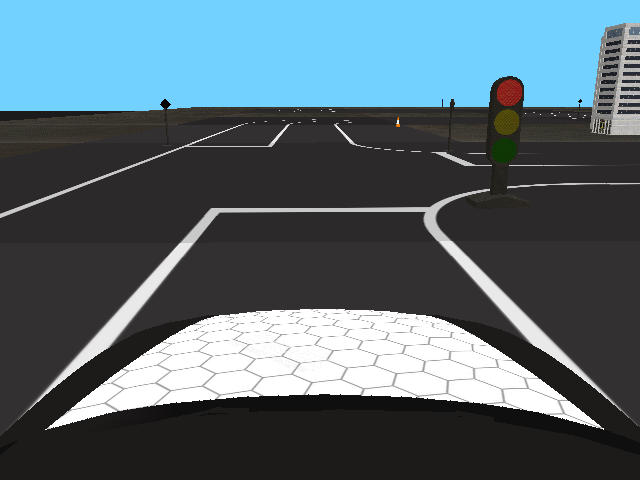red_light: (486, 77, 524, 166)
